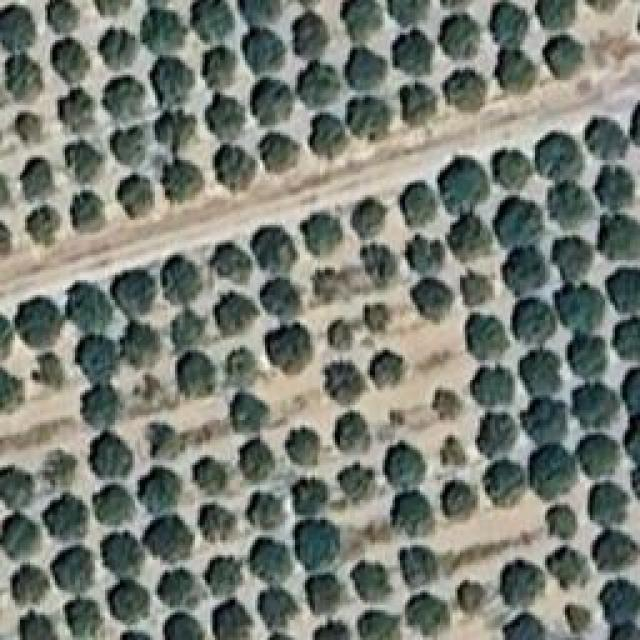Tree: (438, 158, 491, 215), (530, 443, 578, 501), (15, 298, 65, 350), (493, 198, 543, 250), (555, 283, 606, 333), (65, 283, 113, 335), (535, 132, 584, 182), (143, 515, 194, 563), (520, 397, 568, 447), (295, 520, 341, 572), (110, 270, 156, 321), (448, 213, 494, 264), (265, 324, 311, 374), (503, 245, 548, 296), (250, 228, 298, 275), (572, 383, 620, 430), (150, 58, 194, 109), (548, 180, 594, 228), (75, 335, 119, 385), (140, 8, 186, 55), (500, 560, 545, 608), (43, 493, 88, 540), (138, 468, 182, 516), (468, 313, 512, 361), (483, 460, 527, 508), (163, 255, 204, 306), (298, 60, 342, 107), (513, 298, 557, 345), (215, 145, 258, 193), (253, 77, 296, 125), (53, 545, 96, 593), (385, 443, 428, 491), (215, 292, 260, 337), (103, 75, 147, 121), (520, 350, 563, 397), (553, 235, 596, 282), (243, 28, 286, 74), (495, 48, 538, 94), (90, 433, 133, 479), (250, 538, 293, 584), (345, 47, 388, 92), (103, 532, 146, 577), (108, 580, 151, 625), (578, 435, 621, 480), (545, 545, 590, 588), (593, 530, 639, 572), (393, 30, 434, 77), (478, 413, 519, 460), (205, 93, 245, 141), (600, 580, 640, 628), (5, 52, 43, 102), (163, 160, 206, 204), (348, 98, 391, 142), (443, 70, 487, 113), (405, 593, 449, 636), (393, 490, 434, 536), (178, 353, 218, 400), (300, 213, 343, 256), (310, 260, 353, 303), (440, 15, 481, 60), (543, 35, 584, 80), (413, 277, 454, 322), (588, 482, 629, 527), (0, 513, 40, 559), (123, 323, 162, 370), (193, 0, 236, 42), (93, 485, 136, 527), (260, 277, 300, 322), (600, 215, 640, 260), (53, 38, 92, 84), (310, 113, 349, 159), (155, 110, 196, 153), (325, 363, 366, 406), (595, 166, 635, 210), (470, 368, 514, 408), (82, 385, 120, 431), (360, 243, 398, 289), (210, 243, 251, 285), (585, 118, 626, 160), (400, 184, 439, 228), (568, 334, 607, 378), (117, 175, 155, 220), (0, 5, 36, 52), (293, 13, 329, 60), (98, 28, 138, 70), (258, 588, 298, 630), (65, 140, 104, 183), (353, 560, 393, 601), (493, 3, 529, 48), (240, 437, 276, 482), (260, 133, 300, 173), (405, 235, 444, 276), (58, 88, 94, 132), (173, 307, 208, 352), (205, 557, 244, 597), (198, 502, 237, 542), (110, 125, 148, 166), (12, 565, 50, 606), (68, 190, 106, 231), (400, 83, 436, 126), (232, 392, 270, 432), (217, 600, 255, 640), (345, 0, 382, 41), (305, 573, 341, 614), (443, 480, 479, 521), (608, 262, 640, 308), (353, 198, 388, 240), (20, 158, 54, 201), (203, 45, 237, 88), (495, 150, 531, 190), (335, 414, 371, 454), (43, 450, 79, 489), (370, 350, 405, 390), (403, 547, 438, 587), (338, 463, 374, 501), (28, 206, 62, 246), (0, 468, 34, 508), (293, 478, 329, 515), (225, 348, 256, 390), (248, 493, 283, 530), (193, 458, 228, 495), (160, 573, 195, 609), (460, 270, 494, 307), (288, 430, 321, 467), (503, 612, 546, 640), (358, 610, 398, 640), (70, 603, 102, 639), (20, 610, 58, 640), (388, 0, 430, 27), (165, 612, 205, 640), (238, 0, 281, 26), (0, 367, 24, 412), (537, 0, 574, 29), (150, 424, 181, 458), (548, 505, 577, 541), (50, 0, 80, 33), (458, 580, 487, 613), (615, 317, 640, 355), (32, 355, 60, 388), (15, 113, 43, 145), (433, 390, 462, 420), (362, 302, 390, 332), (385, 403, 413, 433), (328, 320, 352, 351), (622, 370, 640, 410), (443, 435, 466, 466), (568, 605, 591, 635), (312, 622, 350, 640), (0, 315, 13, 361), (628, 425, 640, 463), (0, 217, 13, 252)
